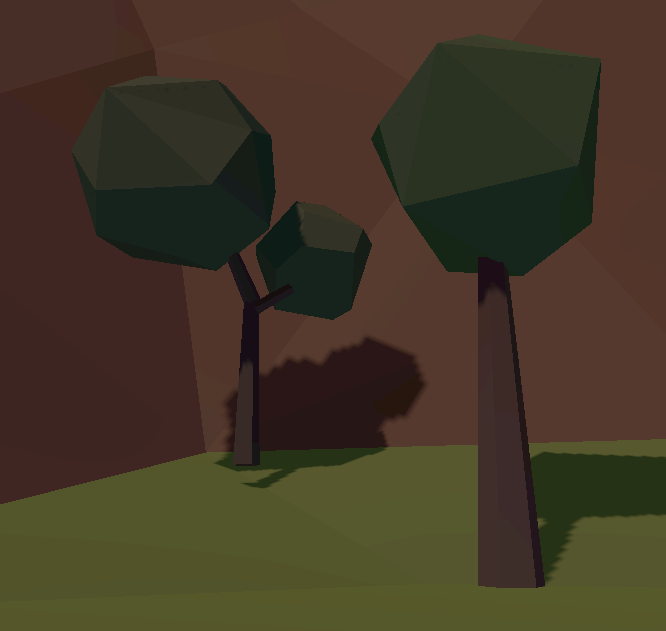tree: (375, 33, 633, 580), (70, 72, 372, 465)
